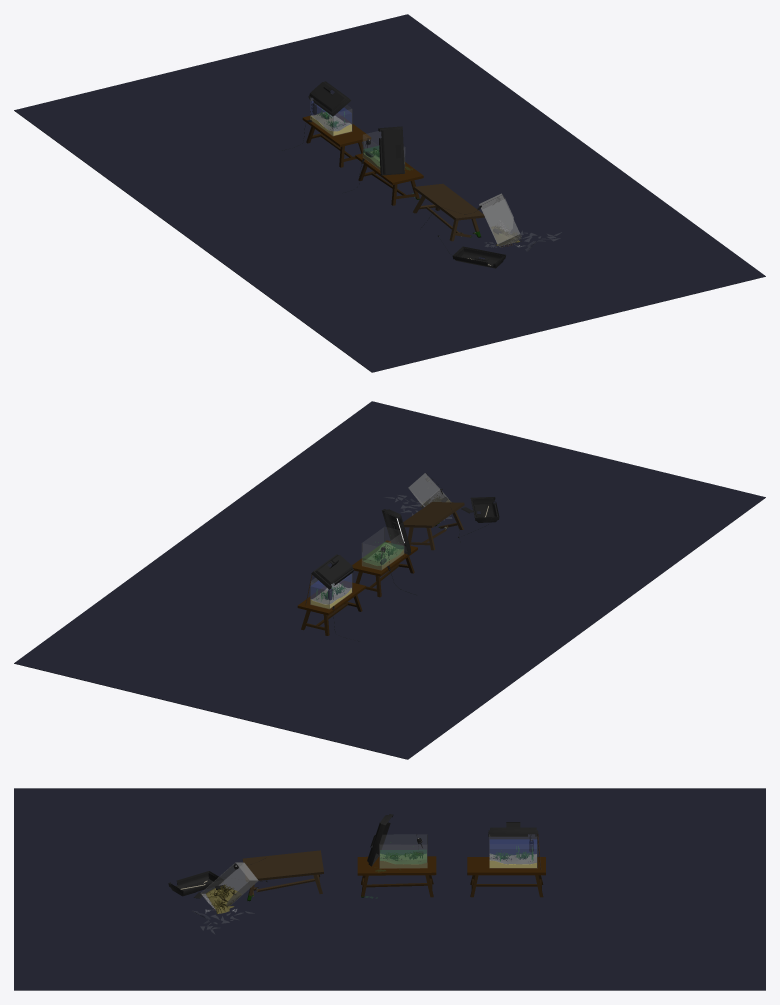
The model's file is fish_tank_xyz_damage.glb.
The picture shows the model from 3 angles, top to bottom: view 1: azimuth 30°, elevation 25°; view 2: azimuth 150°, elevation 25°; view 3: azimuth 270°, elevation 25°; orthographic projection. The views are drawn at different scales.
Parts seen in each view (by area): view 1: floor_0, tabletop used.001_39, glass back.003_28, top cover.007_437, top cover_283, top cover.003_46, new fish tank_292, water_291, glass front.003_30; view 2: floor_0, tabletop used.001_39, top cover_283, water_291, top cover.007_437, new fish tank_292, top cover.003_46; view 3: floor_0, tabletop used.001_39, water_291, glass front_284, glass front.001_438, new fish tank_292, tabletop used_448, top cover.003_46, water.001_447, glass bottom.003_36, top cover.007_437, sand_288 (+4 smaller).
Part boxes in pixels (x1,y1,x2,y2): floor_0: (14, 14, 765, 372); tabletop used.001_39: (413, 183, 484, 220); glass back.003_28: (479, 193, 519, 244); top cover.007_437: (378, 126, 404, 175); top cover_283: (308, 81, 350, 116); top cover.003_46: (452, 246, 505, 268); new fish tank_292: (302, 113, 371, 146); water_291: (310, 101, 351, 131); glass front.003_30: (483, 199, 513, 231); floor_0: (14, 401, 765, 759); tabletop used.001_39: (403, 502, 464, 527); top cover_283: (311, 554, 353, 589); water_291: (310, 574, 351, 604); top cover.007_437: (382, 509, 411, 554); new fish tank_292: (297, 580, 365, 615); top cover.003_46: (470, 497, 499, 522); floor_0: (14, 788, 765, 990); tabletop used.001_39: (242, 850, 323, 881); water_291: (489, 839, 536, 864); glass front_284: (490, 845, 536, 867); glass front.001_438: (380, 845, 426, 867); new fish tank_292: (467, 857, 545, 875); tabletop used_448: (357, 856, 436, 875); top cover.003_46: (168, 871, 223, 896); water.001_447: (380, 849, 426, 864); glass bottom.003_36: (219, 863, 256, 893); top cover.007_437: (367, 814, 393, 866); sand_288: (489, 854, 536, 867).
Size of the model in its own units: 8.88 by 1.45 by 13.98.
